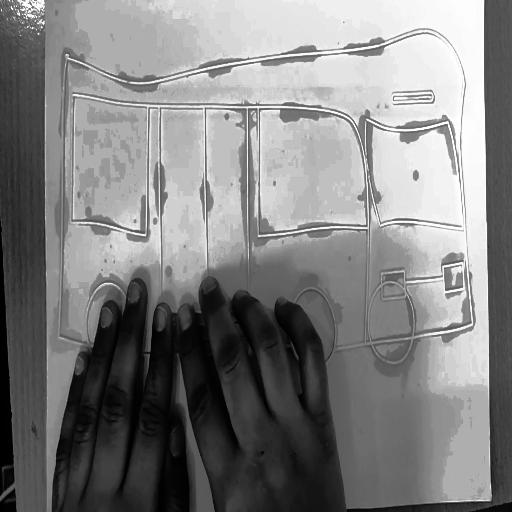bottom_right: (488, 489, 495, 508)
bus: (30, 18, 496, 395)
